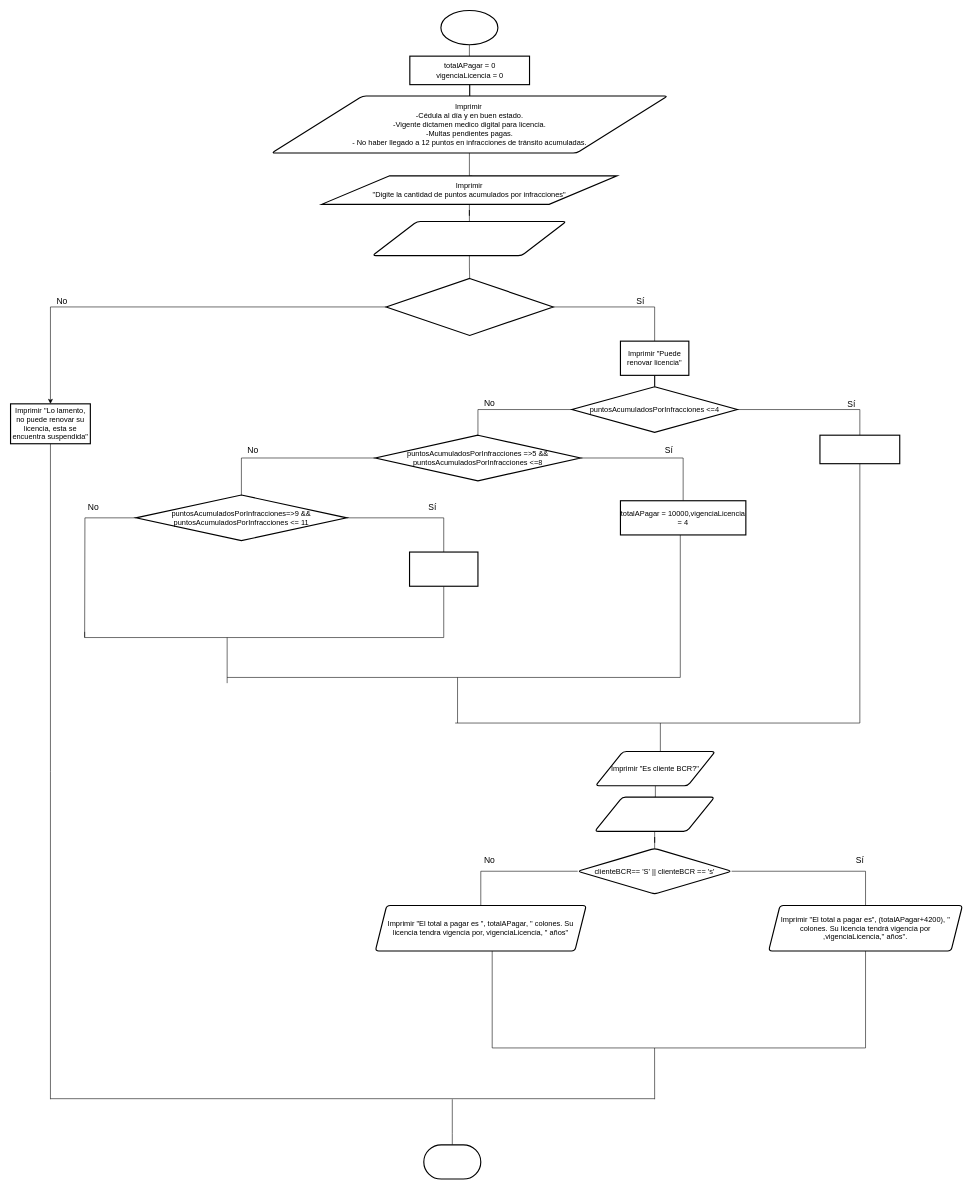
Some shapes in this 972 by 1189 pixel diagram are drawn without their labels. The box of each missing label's shape, as (x1, y1, x2, y2) in pixels:
Fin: (423, 1144, 481, 1179)
Inicio: (440, 10, 498, 45)
Leer clienteBCR: (594, 796, 715, 832)
Leer puntosAcumuladosPorInfracciones: (372, 221, 567, 256)
puntosAcumuladosPorInfracciones <12: (385, 278, 553, 336)
totalAPagar = 10000, vigenciaLicencia = 3: (409, 551, 478, 587)
totalAPagar= 5000,vigenciaLicencia=6: (819, 434, 900, 464)
